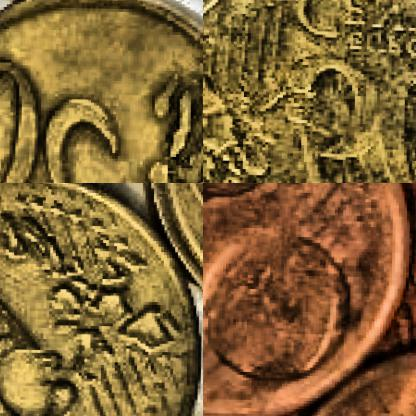coin: (203, 183, 412, 415), (0, 183, 202, 415), (203, 0, 415, 182), (0, 0, 202, 182)
